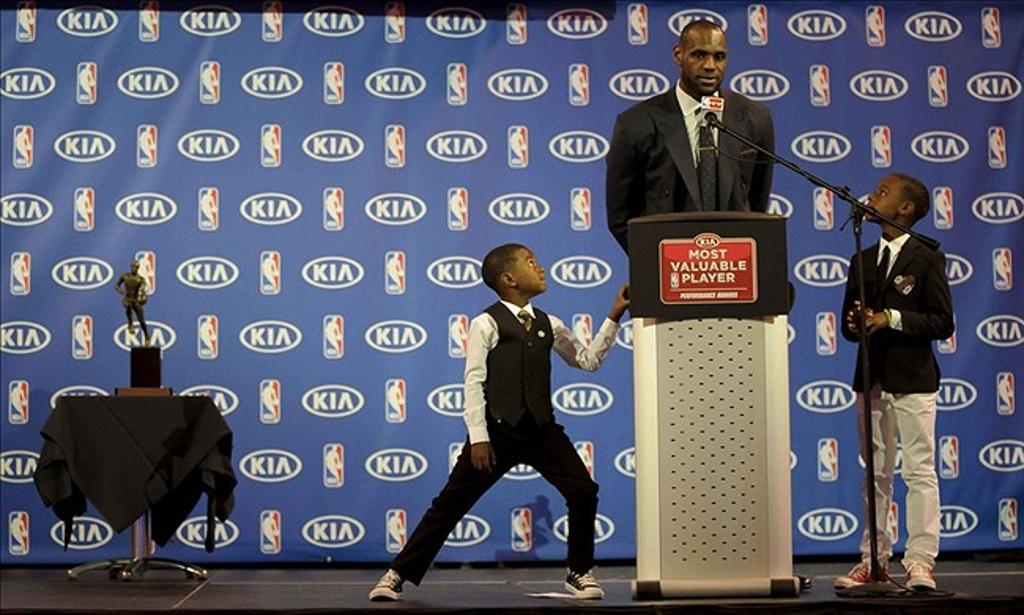face: (684, 31, 727, 95), (864, 176, 904, 222), (511, 246, 546, 290)
